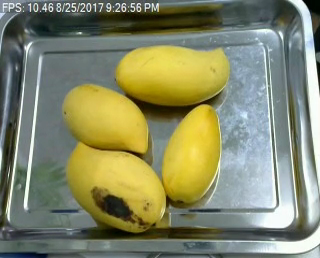Mango: (64, 141, 166, 231), (114, 46, 230, 106), (60, 80, 147, 153), (159, 103, 221, 203)
